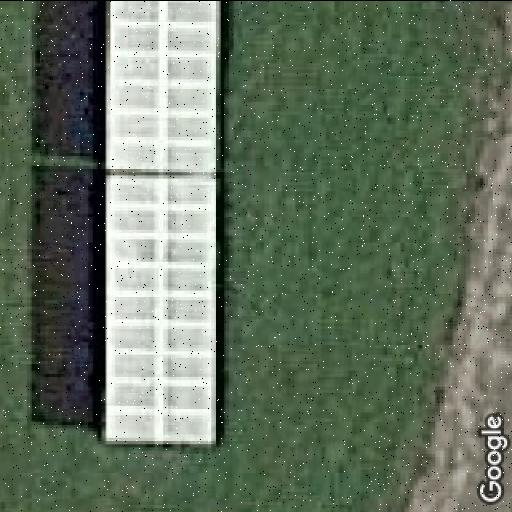solar-panel: (100, 0, 226, 445)
